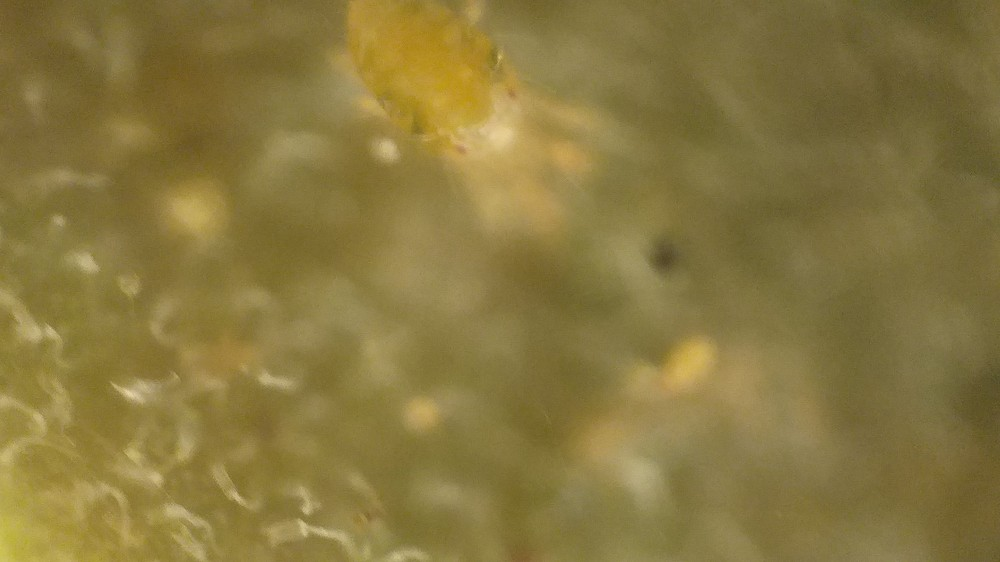Aracnido Rojo: (327, 5, 659, 244)
